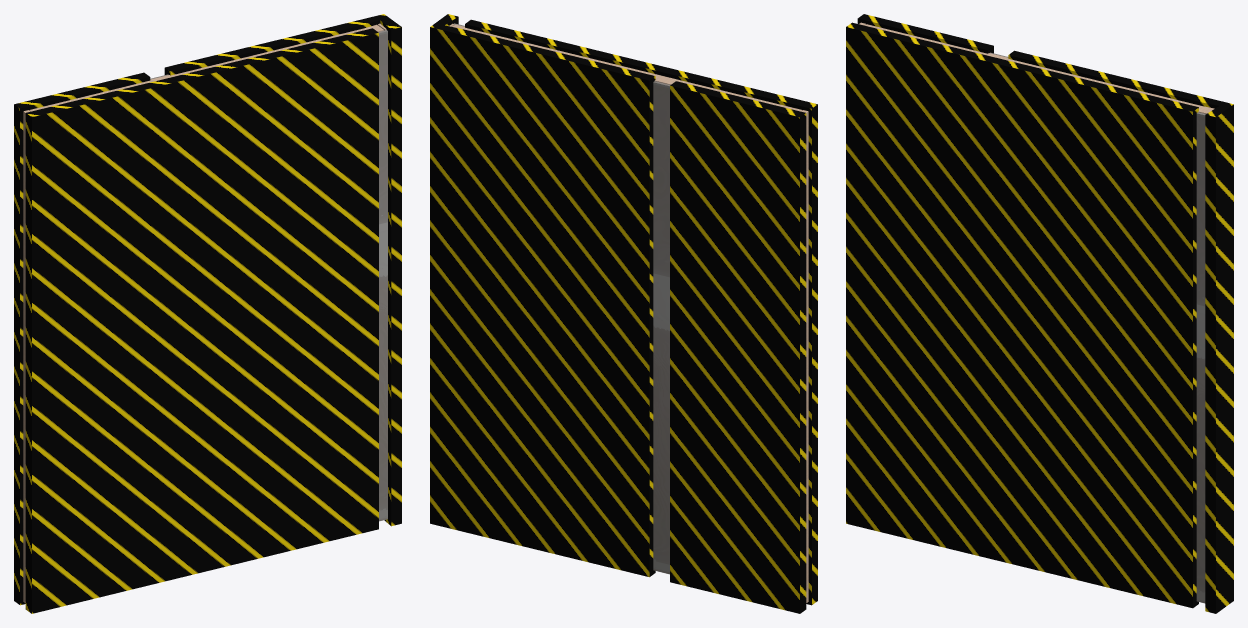
File: WALLSET_C.FBX
3 views of the same model, side by side, from view 1: azimuth 30°, elevation 25°; view 2: azimuth 150°, elevation 25°; view 3: azimuth 330°, elevation 25° (orthographic).
Visible parts, largest first — view 1: SELECTOR_01, DRYWALL_07, FRAME_36; view 2: SELECTOR_01, DRYWALL_07, FRAME_36; view 3: SELECTOR_01, DRYWALL_07, FRAME_36.
Boxes of the visible parts, x1=… form: SELECTOR_01: x1=14, y1=14, x2=401, y2=613; DRYWALL_07: x1=150, y1=30, x2=387, y2=521; FRAME_36: x1=23, y1=23, x2=386, y2=602; SELECTOR_01: x1=430, y1=14, x2=817, y2=613; DRYWALL_07: x1=454, y1=23, x2=670, y2=574; FRAME_36: x1=449, y1=23, x2=808, y2=602; SELECTOR_01: x1=846, y1=14, x2=1233, y2=613; DRYWALL_07: x1=990, y1=52, x2=1205, y2=603; FRAME_36: x1=859, y1=22, x2=1214, y2=113.
Size of the model in its own units: 70.39 by 90.28 by 5.88.
